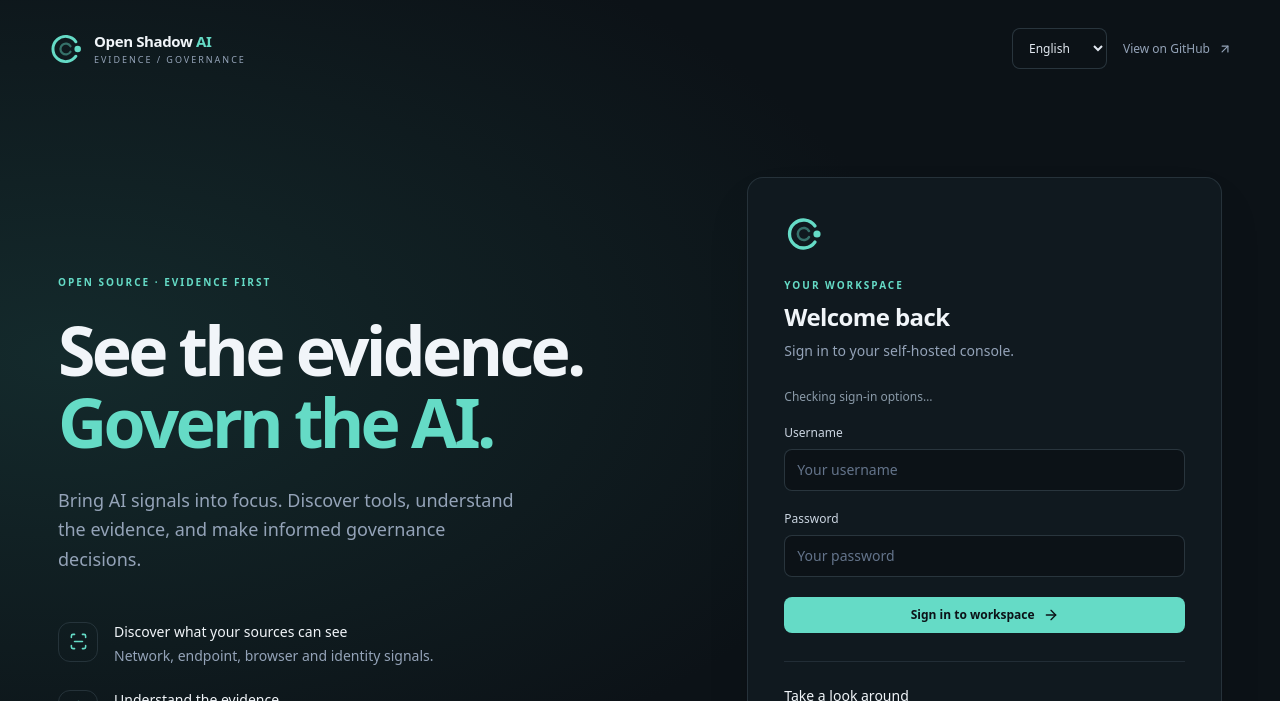
Scenario: localized live UI states › switches existing login inputs and pending/auth errors while retaining entered credentials
The width and height of the screenshot is (1280, 701).
Type "private-user" into the field labelled "Username". click: point(985, 470)
box: [784,449,1185,491]
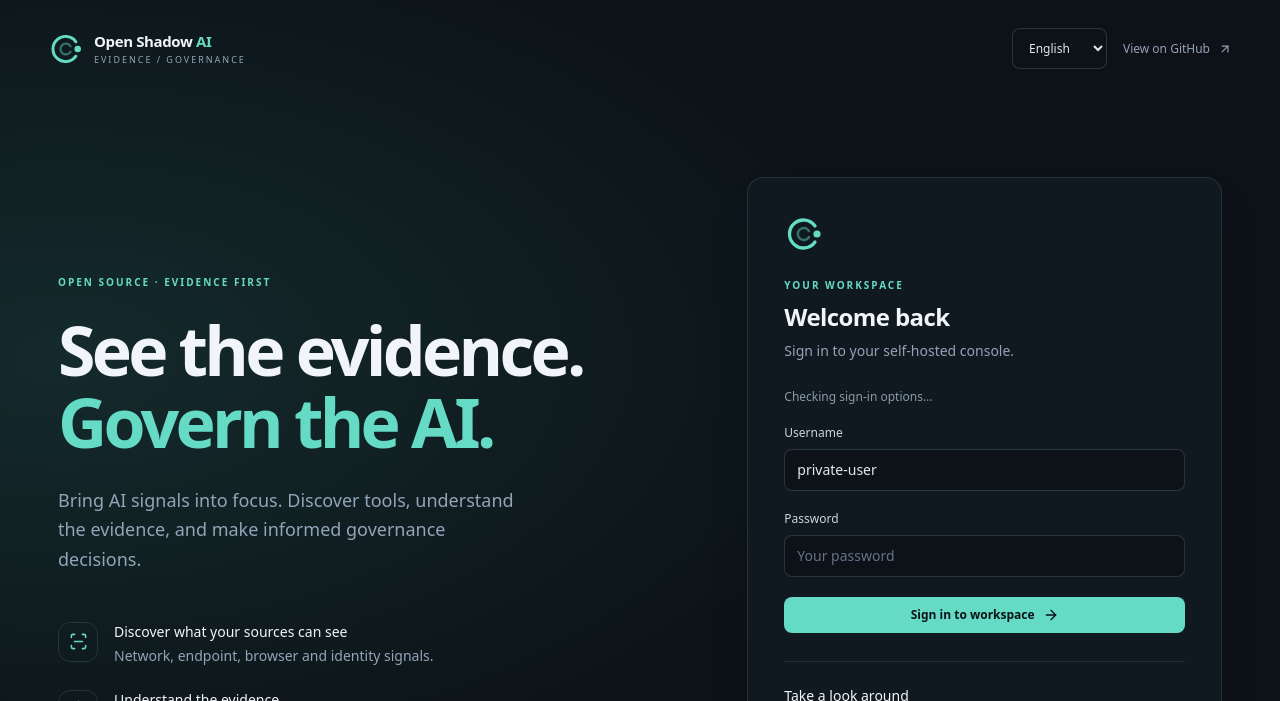
Type "private-password" into the password field labelled "Password". click: point(985, 556)
box: [784,535,1185,577]
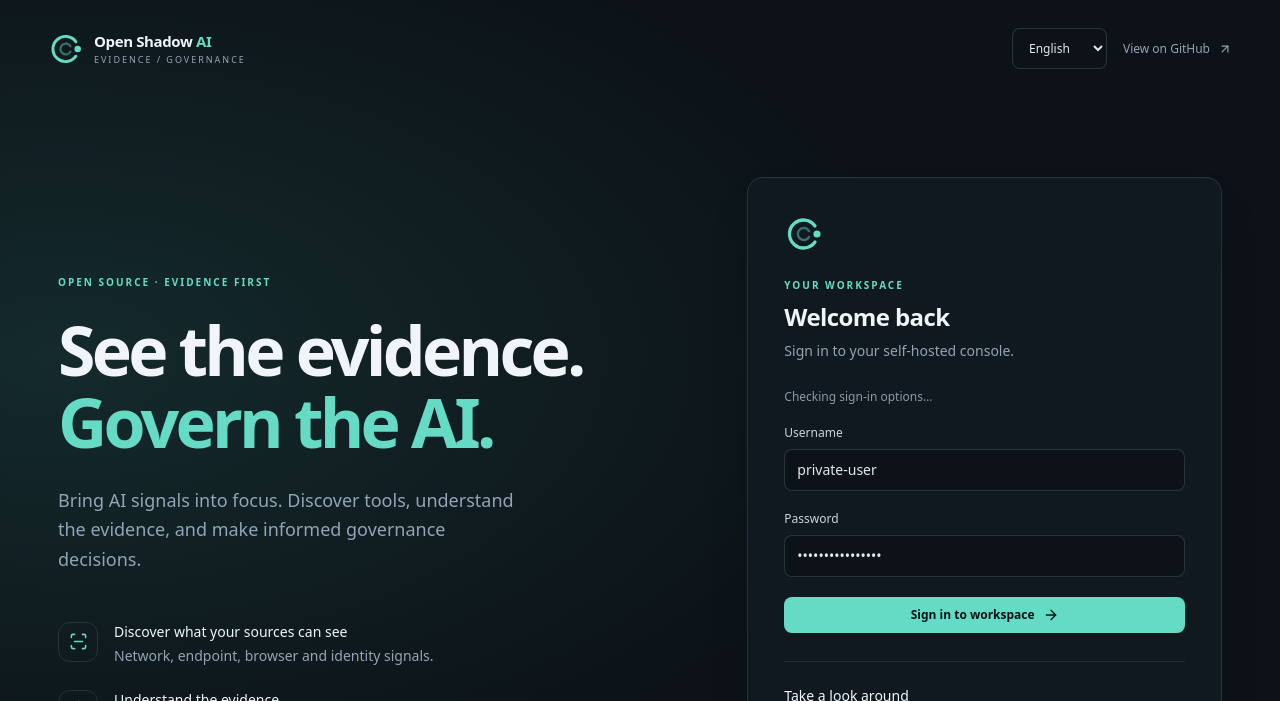
Select "Français" in the dropdown named "Language". click: point(1060, 48)
box: [1012,28,1107,69]
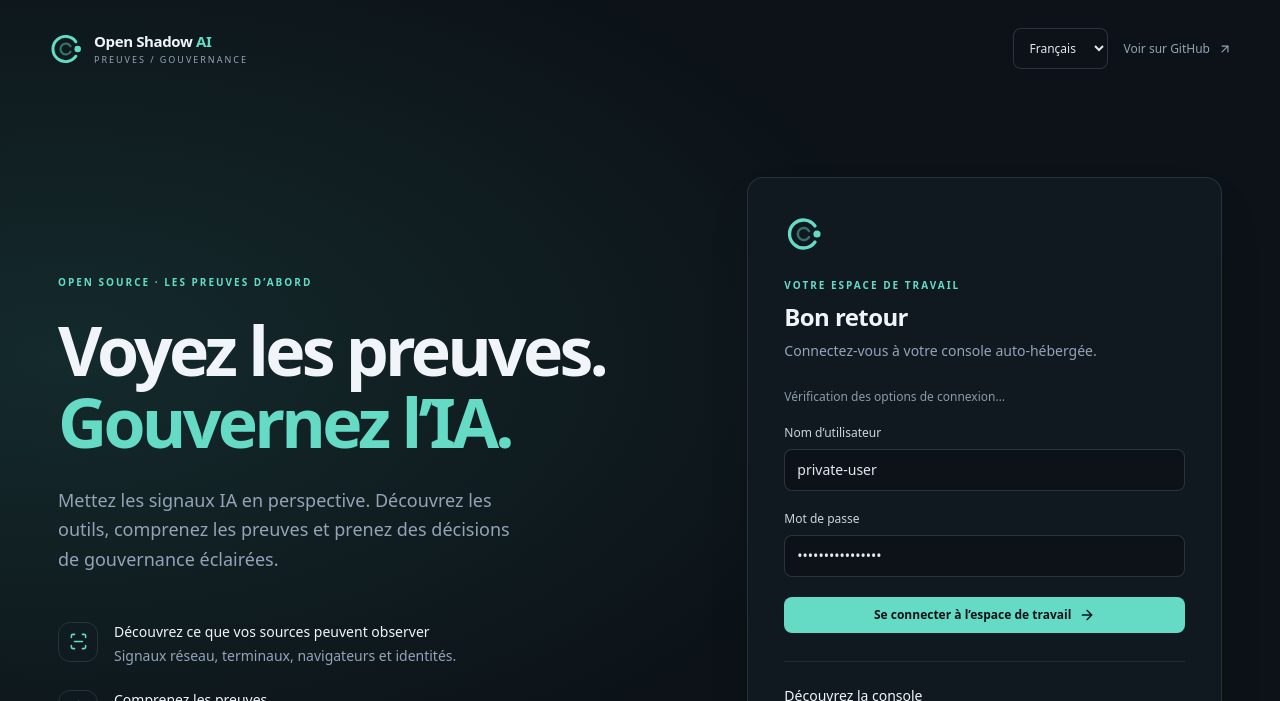
Now the message reads "Vérification des options de connexion…", box [784,388,1005,405]
Click the button "Se connecter à l’espace de travail". click: point(985, 615)
box: [784,597,1185,633]
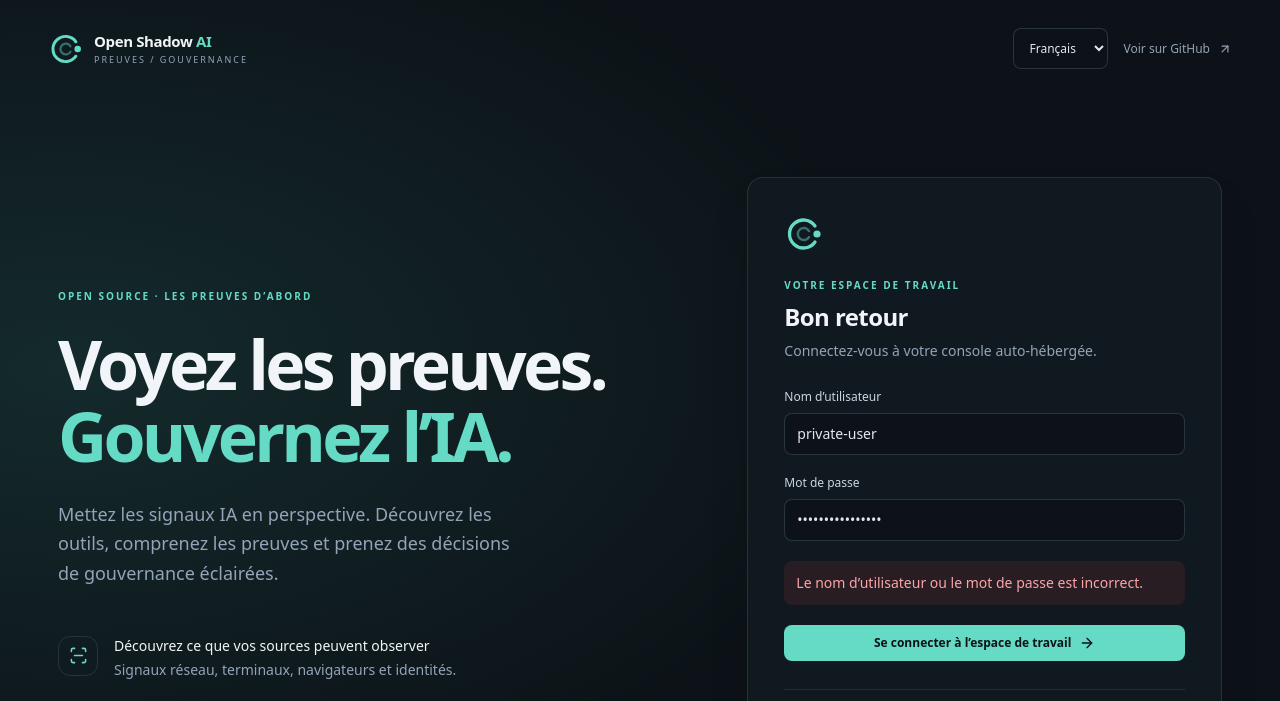
Now the message reads "Le nom d’utilisateur ou le mot de passe est incorrect.", box [796,573,1143,592]
Select "简体中文" in the dropdown named "Langue". click: point(1060, 48)
box: [1012,28,1108,69]
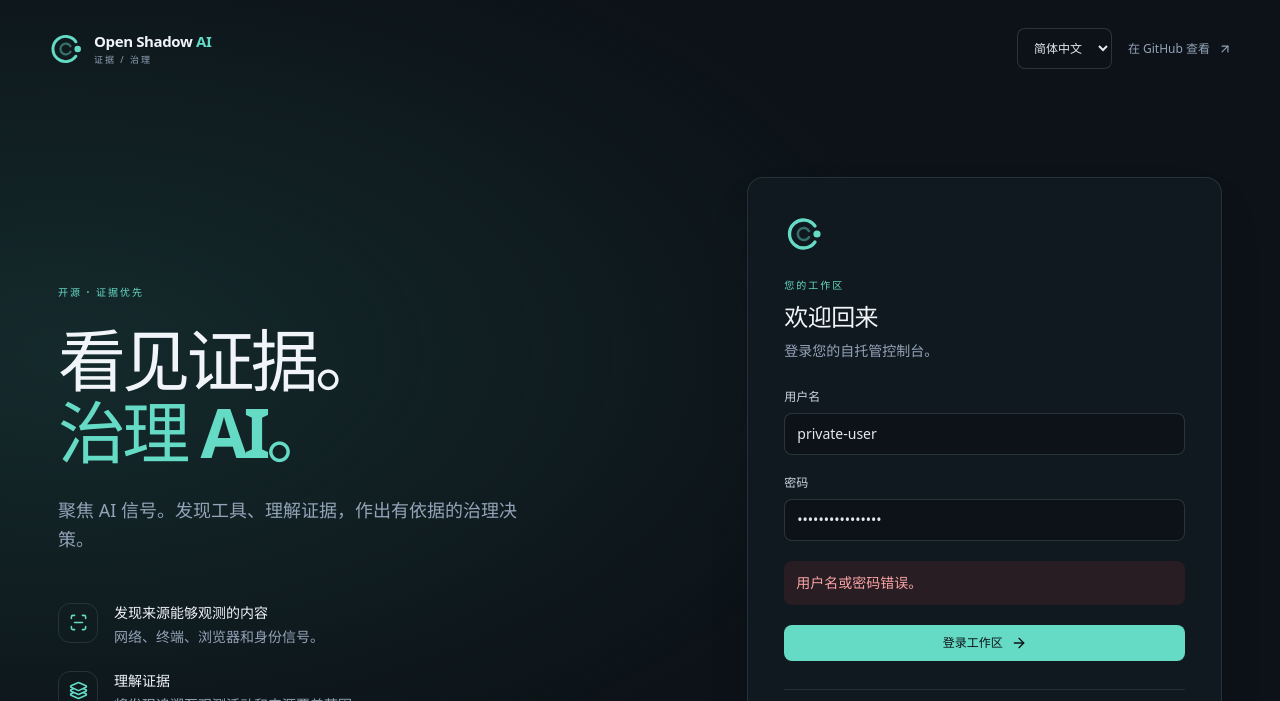
Now the message reads "用户名或密码错误。", box [796,573,922,592]
